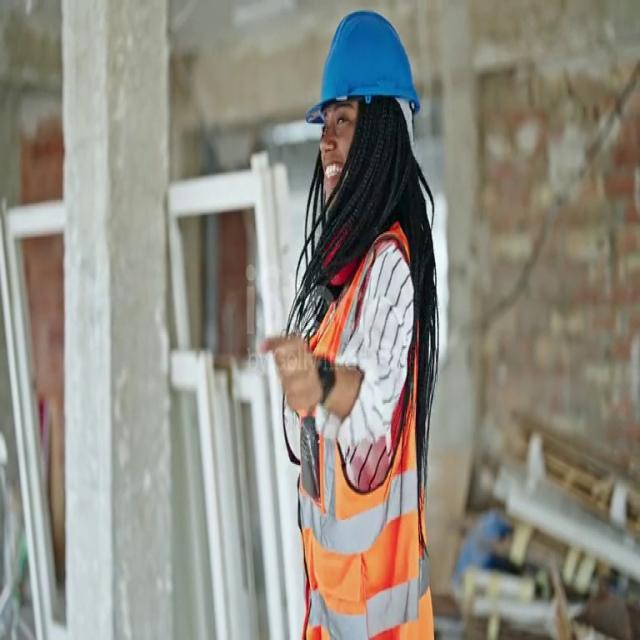capacete: (304, 10, 424, 144)
